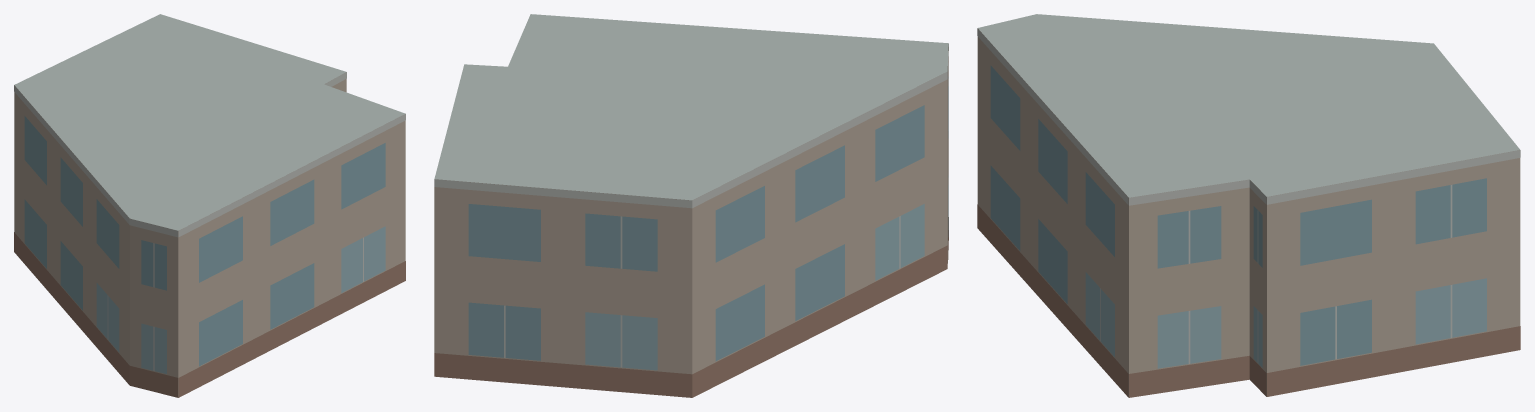
File: survey-upis-32704190.glb
3 renders of one model, left to right at view 1: azimuth 30°, elevation 25°; view 2: azimuth 150°, elevation 25°; view 3: azimuth 270°, elevation 25°, orthographic. The views are drawn at different scales.
Visible parts, largest first — view 1: survey-upis-32704190.tmp; view 2: survey-upis-32704190.tmp; view 3: survey-upis-32704190.tmp.
Part boxes in pixels (x1,y1,x2,y2): survey-upis-32704190.tmp: (14,14,405,397); survey-upis-32704190.tmp: (434,14,948,397); survey-upis-32704190.tmp: (977,14,1520,397).
Bounding box in the file's own units: 12.02 × 6.1 × 15.01.
